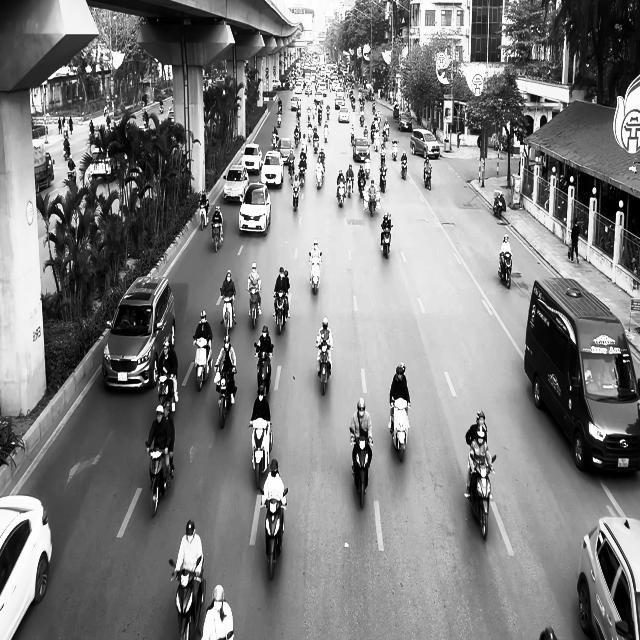car: (102, 274, 176, 390), (577, 516, 640, 640), (0, 494, 53, 639), (239, 182, 271, 236), (223, 164, 249, 203), (410, 127, 440, 159), (261, 150, 284, 187), (353, 136, 370, 162), (398, 112, 412, 132), (338, 106, 349, 122)
motorbike: (170, 555, 206, 639), (465, 453, 497, 540), (262, 487, 288, 580), (146, 444, 173, 517), (248, 419, 274, 491), (351, 433, 373, 508), (388, 398, 411, 462), (215, 366, 237, 428), (193, 336, 213, 391), (254, 342, 274, 396), (156, 370, 177, 413), (316, 342, 333, 395), (273, 290, 289, 335), (220, 290, 236, 335), (248, 286, 262, 329), (498, 251, 512, 289), (310, 252, 322, 294), (381, 220, 393, 258), (493, 190, 506, 218), (368, 188, 380, 216), (212, 220, 222, 252), (199, 201, 209, 230), (316, 160, 325, 190), (292, 181, 301, 211), (424, 166, 432, 190), (392, 138, 399, 160), (401, 158, 407, 180)
truck: (524, 276, 640, 473)
